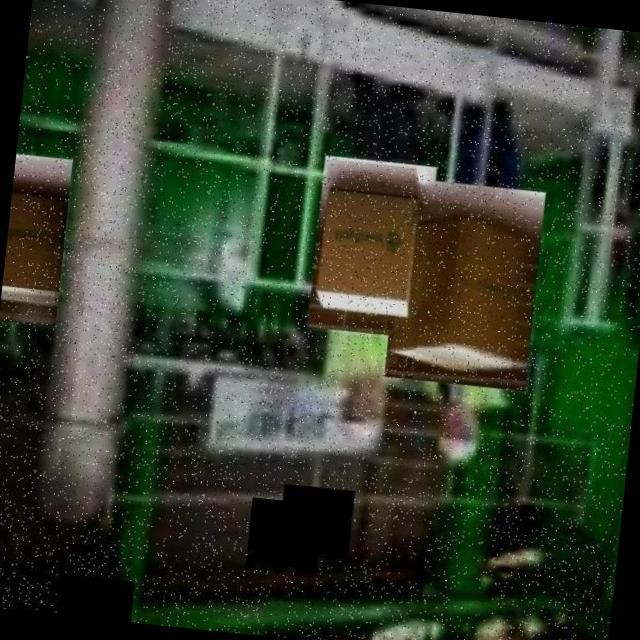box: (382, 174, 550, 393), (306, 150, 439, 342), (0, 150, 75, 328)
